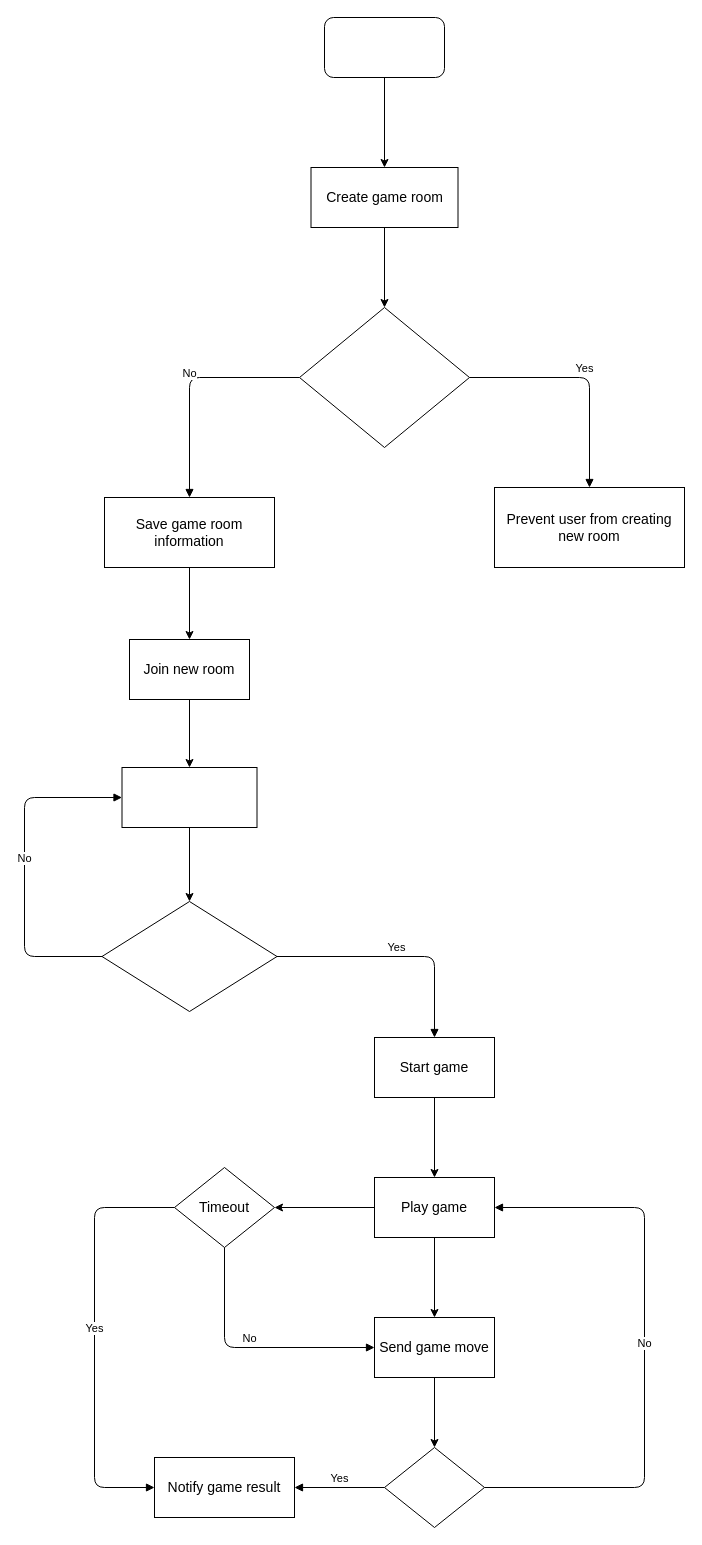
Some shapes in this 702 by 1545 pixel diagram are drawn without their labels. Each missing label, with the centre of its shape:
Another player joins: point 189,956
If user already joined another game: point 384,377
Is user win: point 434,1487
User: point 384,47
Wait for opponent: point 189,797
